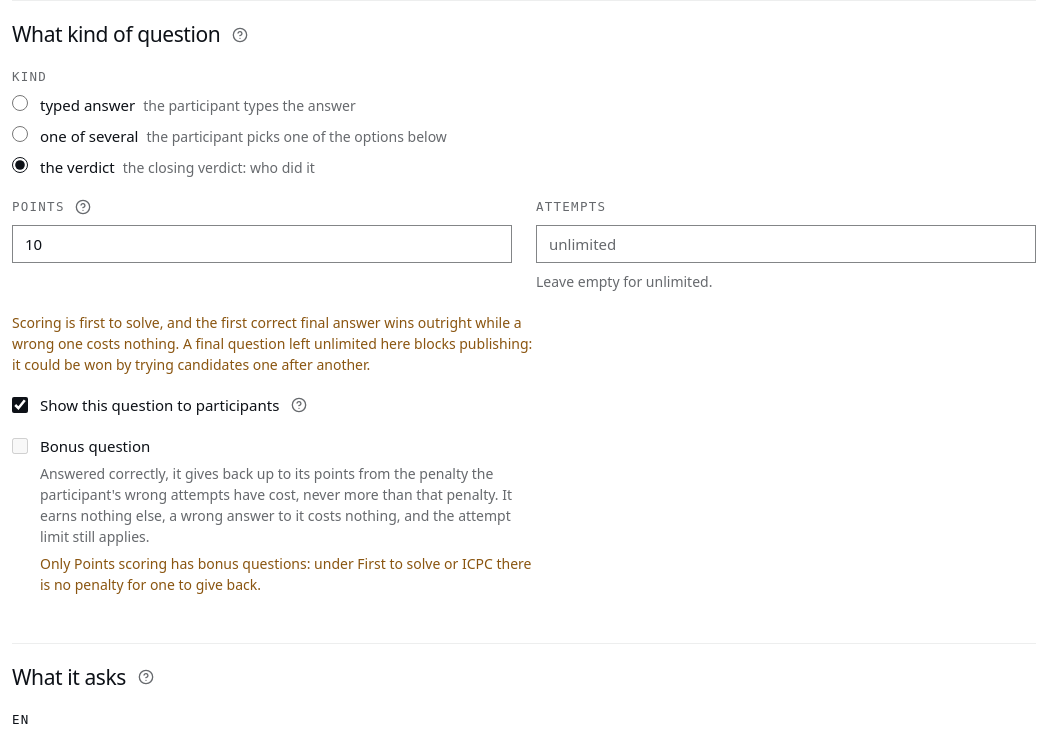
Test: QuestionEditor, the penalty and the sequential warning › warns about the winner-mode publish-gate refusal on an unlimited final question
The image size is (1048, 731).
Check: the text "Scoring is first to solve, and the first correct final answer wins outright while a wrong one costs nothing. A final que" is shown, box [12, 313, 532, 374]
In the number field labelled "Attempts": (786,244) [536, 225, 1036, 263], type "3"
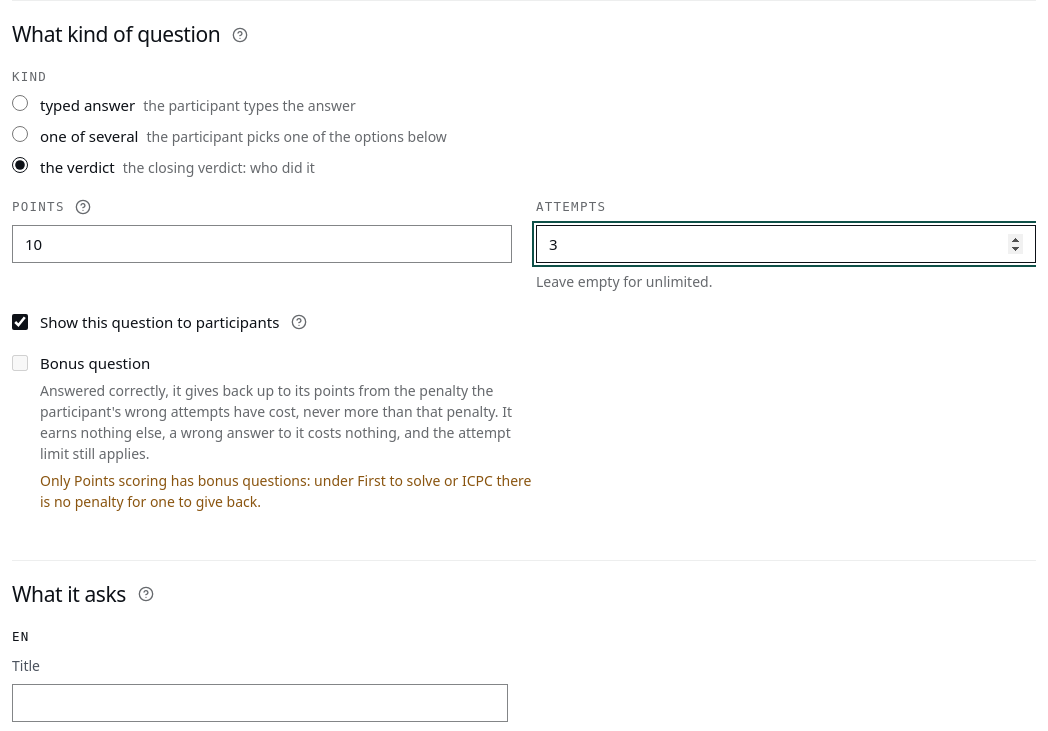
Check: the text "Scoring is first to solve, and the first correct final answer wins outright while a wrong one costs nothing. A final que" is gone
